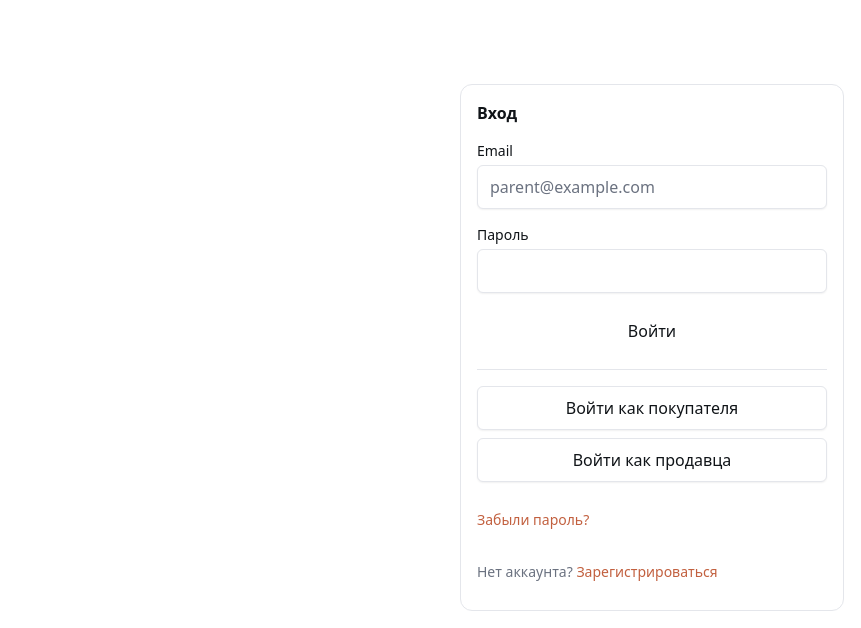
LoginPage dev-вход (временный) › клик по покупателю ставит сессию и ведёт в /cabinet
Step 1. Click the button "Войти как покупателя" → point(652, 408), box [477,386,827,430]
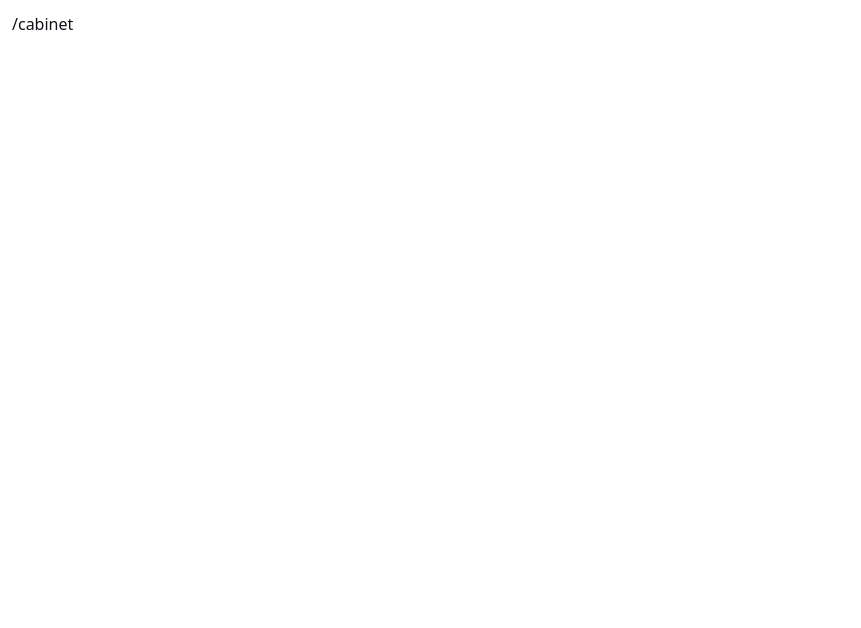
Check: the text with test id "path" reads "/cabinet", box [12,13,73,35]
